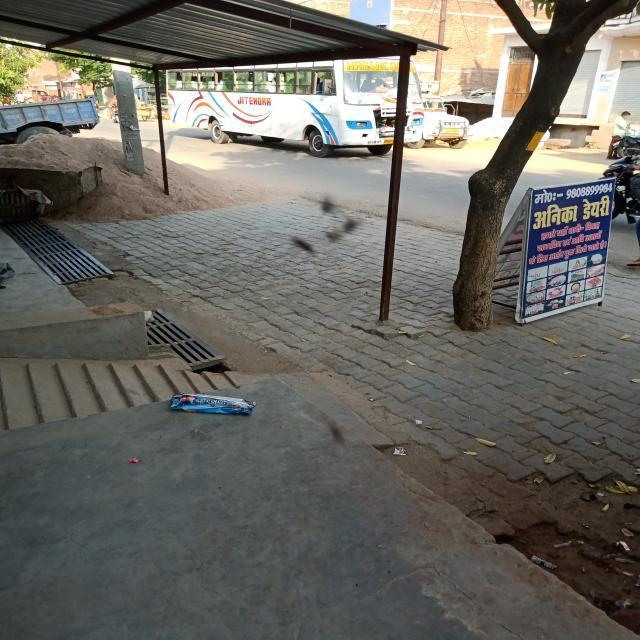bus_front: (162, 54, 430, 159)
car_front: (406, 72, 478, 150)
